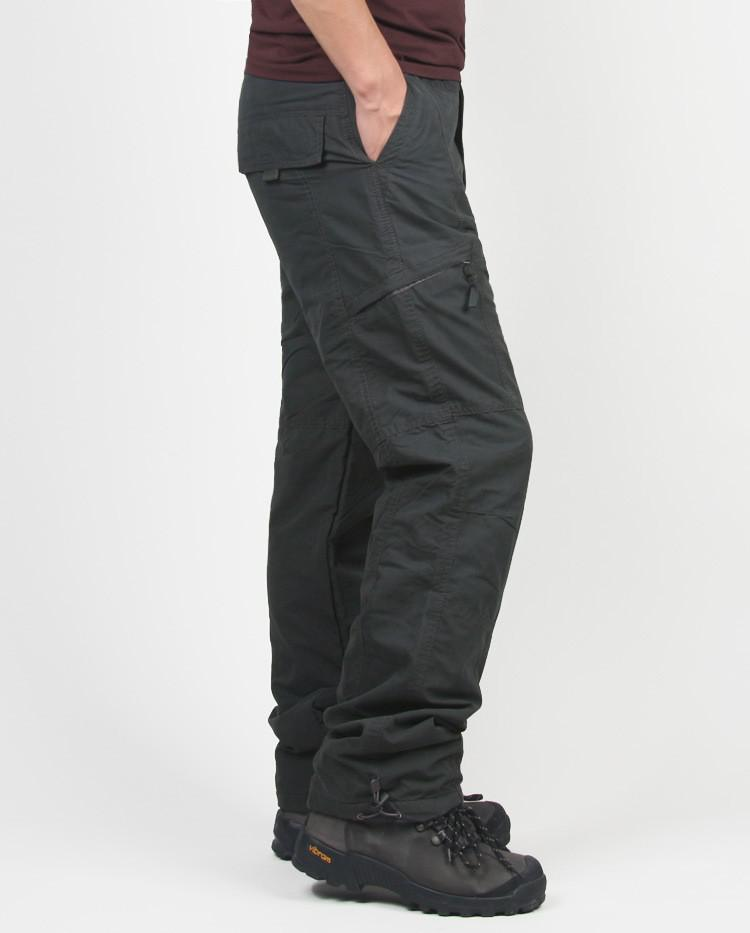pants: (227, 70, 542, 814)
